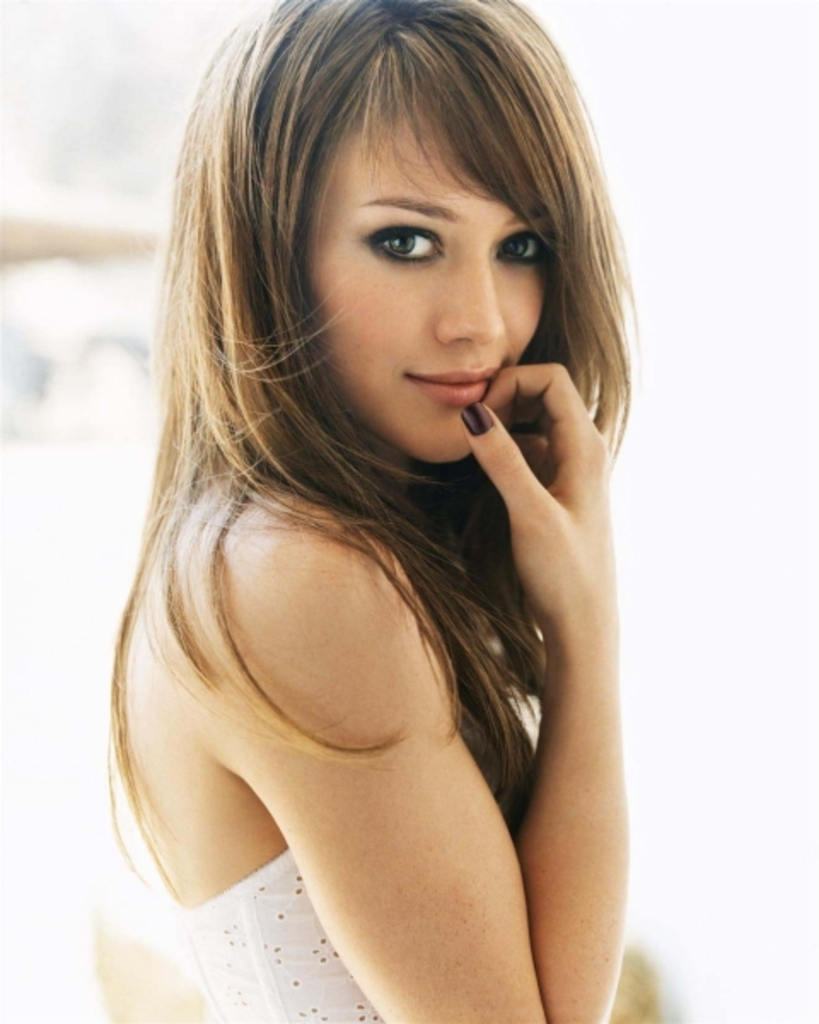Human_hand: (464, 361, 608, 600)
